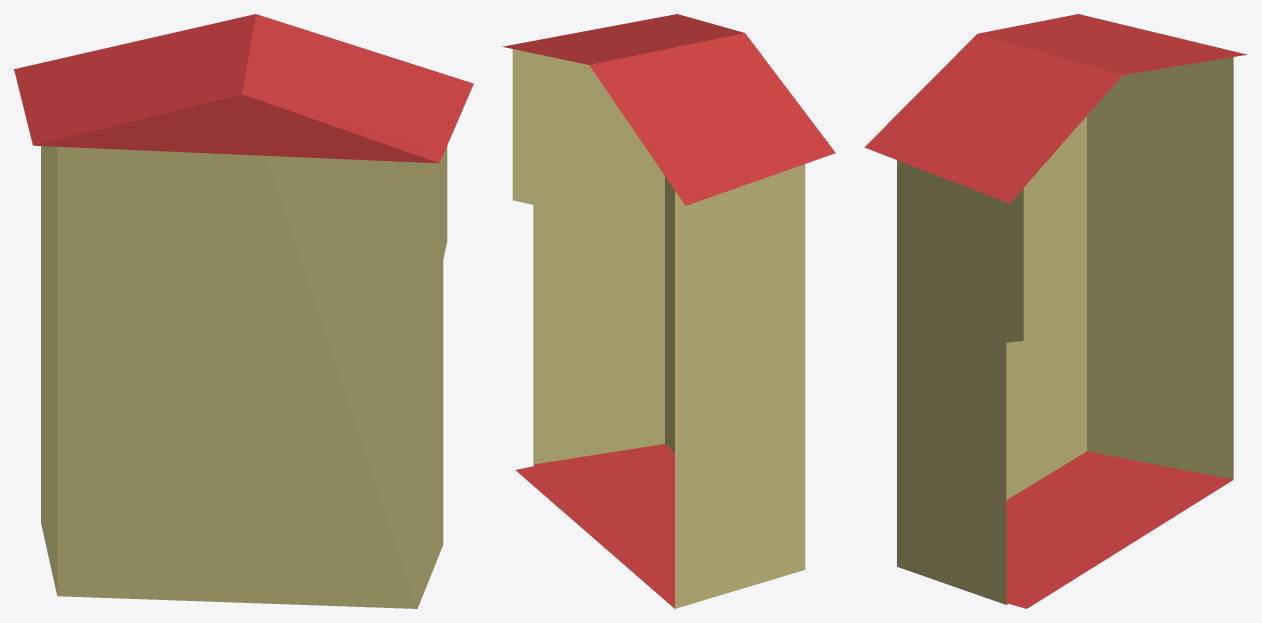
The picture shows the model from 3 angles, left to right: view 1: azimuth 30°, elevation 25°; view 2: azimuth 150°, elevation 25°; view 3: azimuth 270°, elevation 25°; orthographic projection. The views are drawn at different scales.
Parts seen in each view (by area): view 1: group_5, group_3, group_4; view 2: group_5, group_3, group_6, group_4; view 3: group_5, group_3, group_6, group_4.
Part boxes in pixels (left/top/right/bottom): group_5: left=41, top=146, right=447, bottom=608; group_3: left=14, top=14, right=473, bottom=163; group_4: left=14, top=64, right=472, bottom=161; group_5: left=512, top=49, right=805, bottom=608; group_3: left=503, top=14, right=835, bottom=205; group_6: left=515, top=444, right=674, bottom=608; group_4: left=506, top=17, right=832, bottom=205; group_5: left=897, top=57, right=1233, bottom=604; group_3: left=864, top=14, right=1246, bottom=203; group_6: left=1006, top=451, right=1233, bottom=608; group_4: left=866, top=14, right=1244, bottom=202.
Size of the model in its own units: 13.17 by 11.77 by 16.06.
